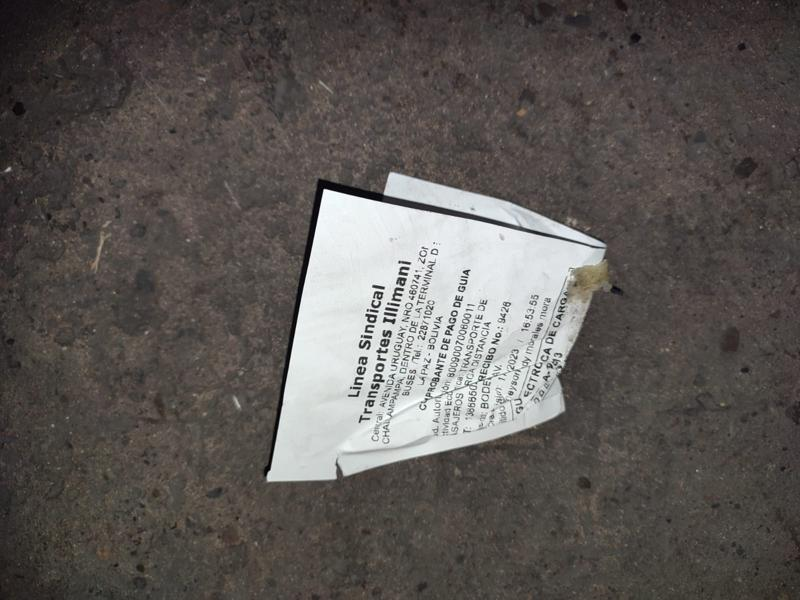papel: (265, 173, 608, 485)
